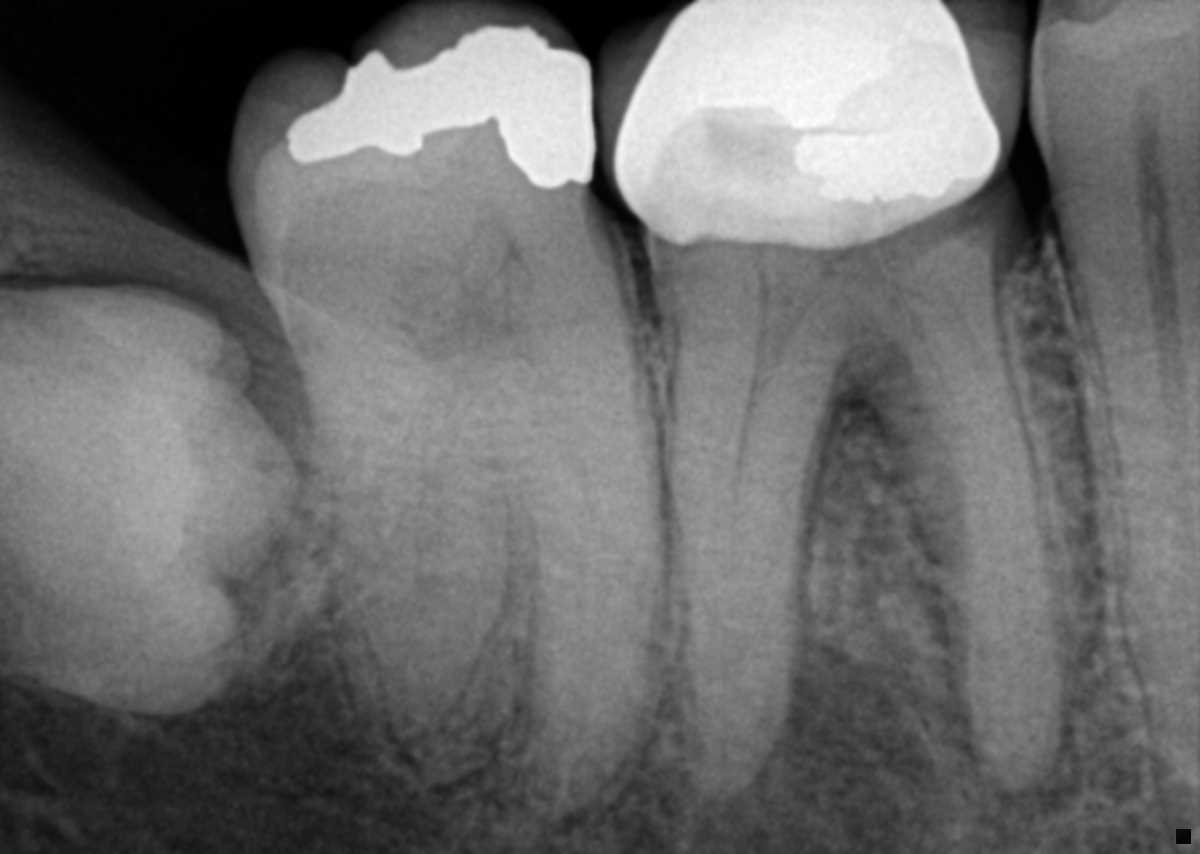Apical Lesion: (633, 638, 948, 854), (960, 731, 1081, 829)
Distal Canal: (725, 320, 797, 534)
Distal Root: (666, 310, 839, 800), (310, 388, 517, 749)
Main Canal: (1139, 217, 1185, 471)
Main Root: (1064, 211, 1200, 830)
Mesial Root: (883, 289, 1069, 793), (501, 279, 663, 822)
decay: (878, 185, 1007, 261)
